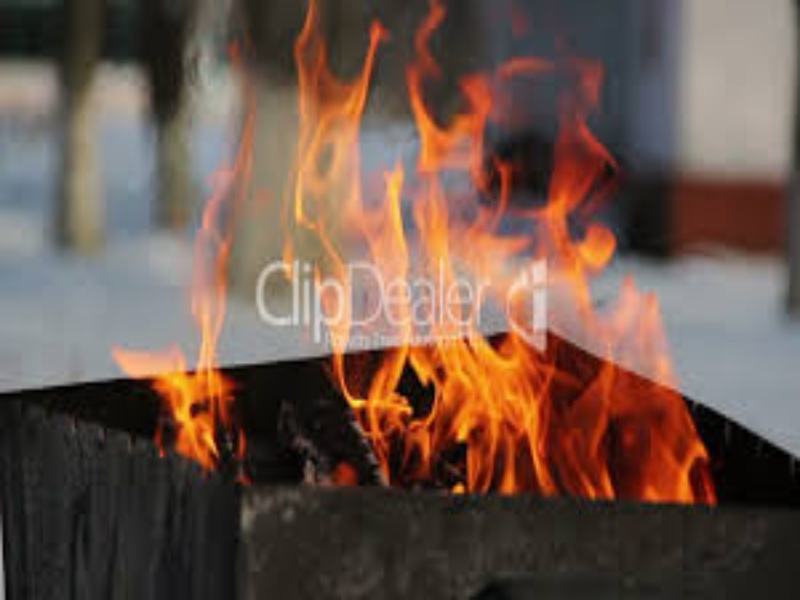fire: (284, 3, 720, 502), (116, 30, 268, 476)
